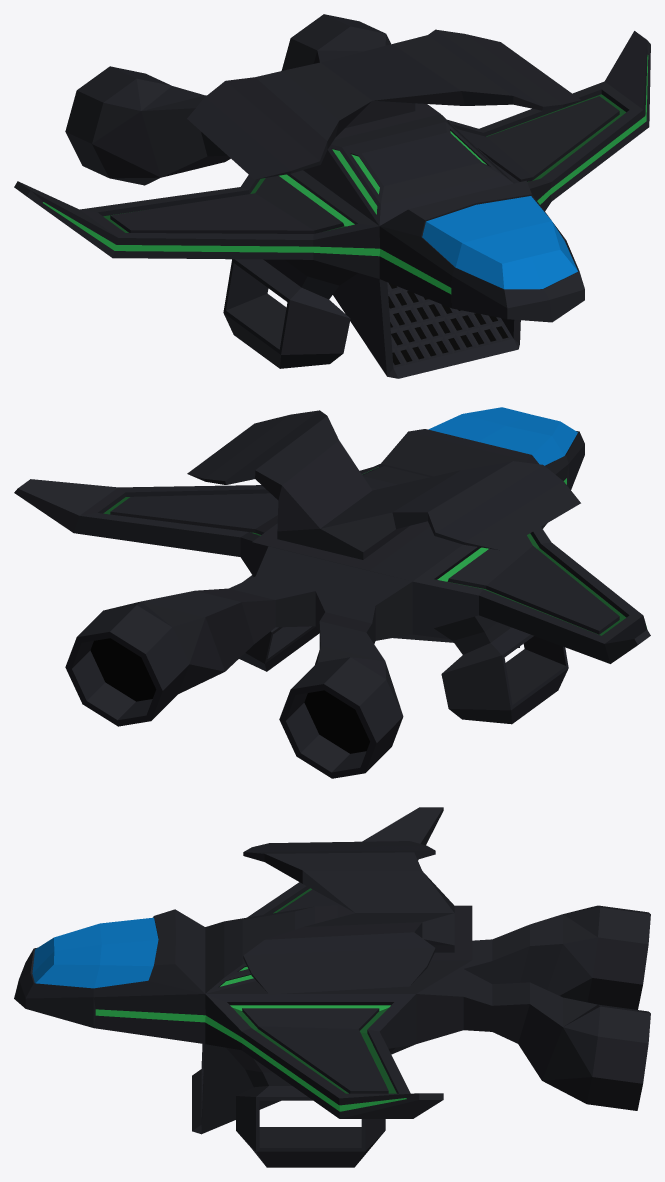
File: space_ship.glb
3 views of the same model, one above another, from view 1: azimuth 30°, elevation 25°; view 2: azimuth 150°, elevation 25°; view 3: azimuth 270°, elevation 25° (orthographic). The views are drawn at different scales.
Visible parts, largest first — view 1: space_ship; view 2: space_ship; view 3: space_ship.
Boxes of the visible parts, box(x1,y1,x2,y2) form: space_ship: box(14, 14, 650, 378); space_ship: box(14, 407, 650, 778); space_ship: box(14, 807, 650, 1167).
Size of what is drawn, in the model's own units: 8.66 by 2.95 by 8.06.
Materials: 1 (1 with a texture image).
